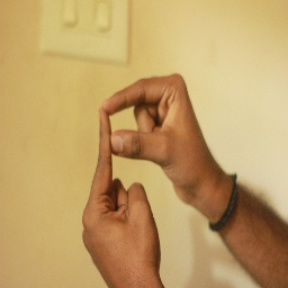P: (81, 69, 195, 249)
